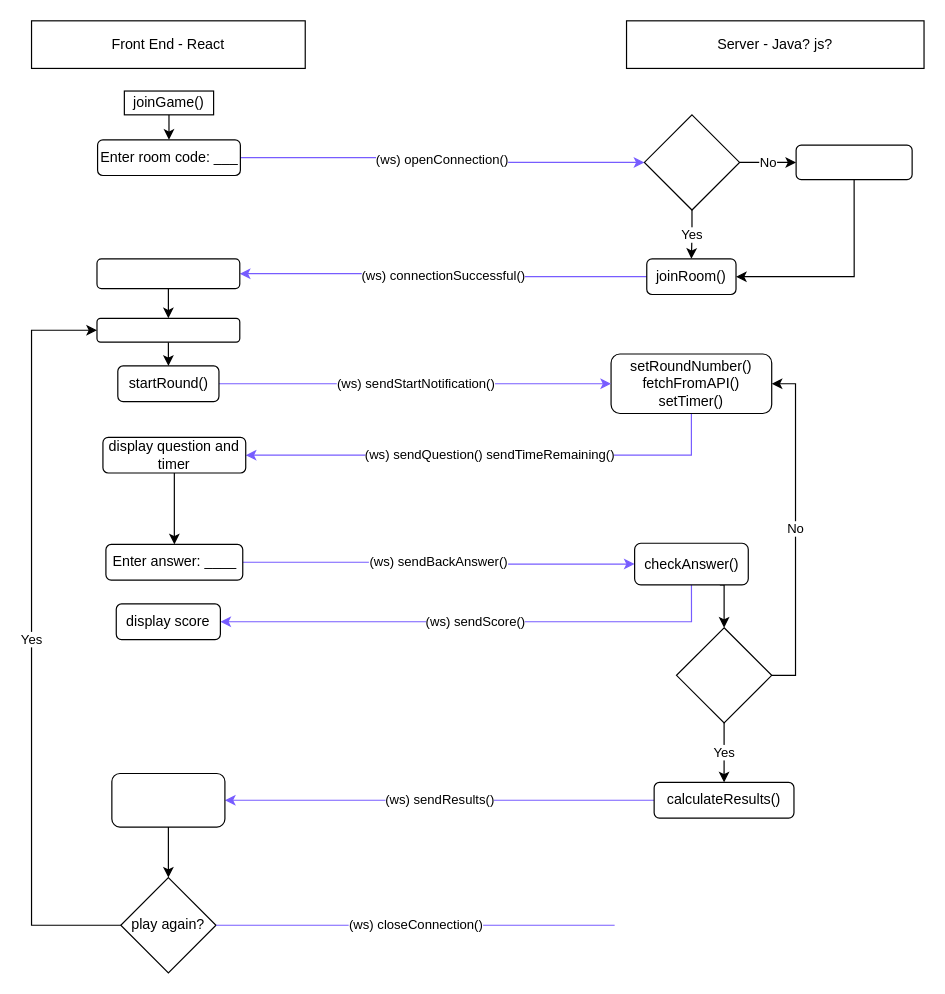
The diagram is 945 pixels wide and 994 high, and some of its shapes have lost their labels. Each missing label, with the box of its shape:
createRoom(): (795, 144, 912, 180)
display results: (111, 772, 225, 827)
last round?: (675, 627, 772, 723)
room exists?: (643, 114, 740, 210)
showGameRoom(): (96, 258, 240, 289)
startGame(): (96, 317, 240, 342)
